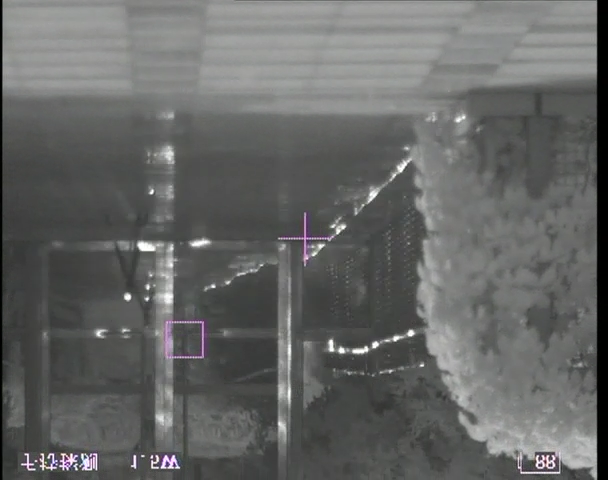my: (122, 291, 132, 303)
